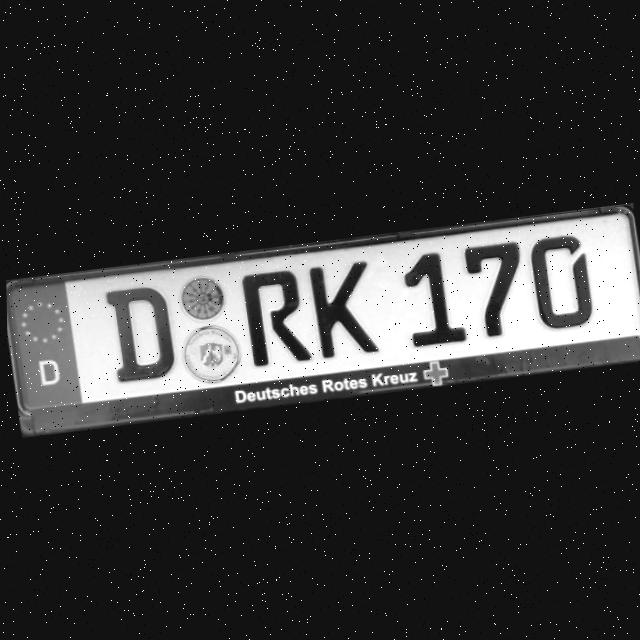license-plates: (7, 214, 640, 410)
